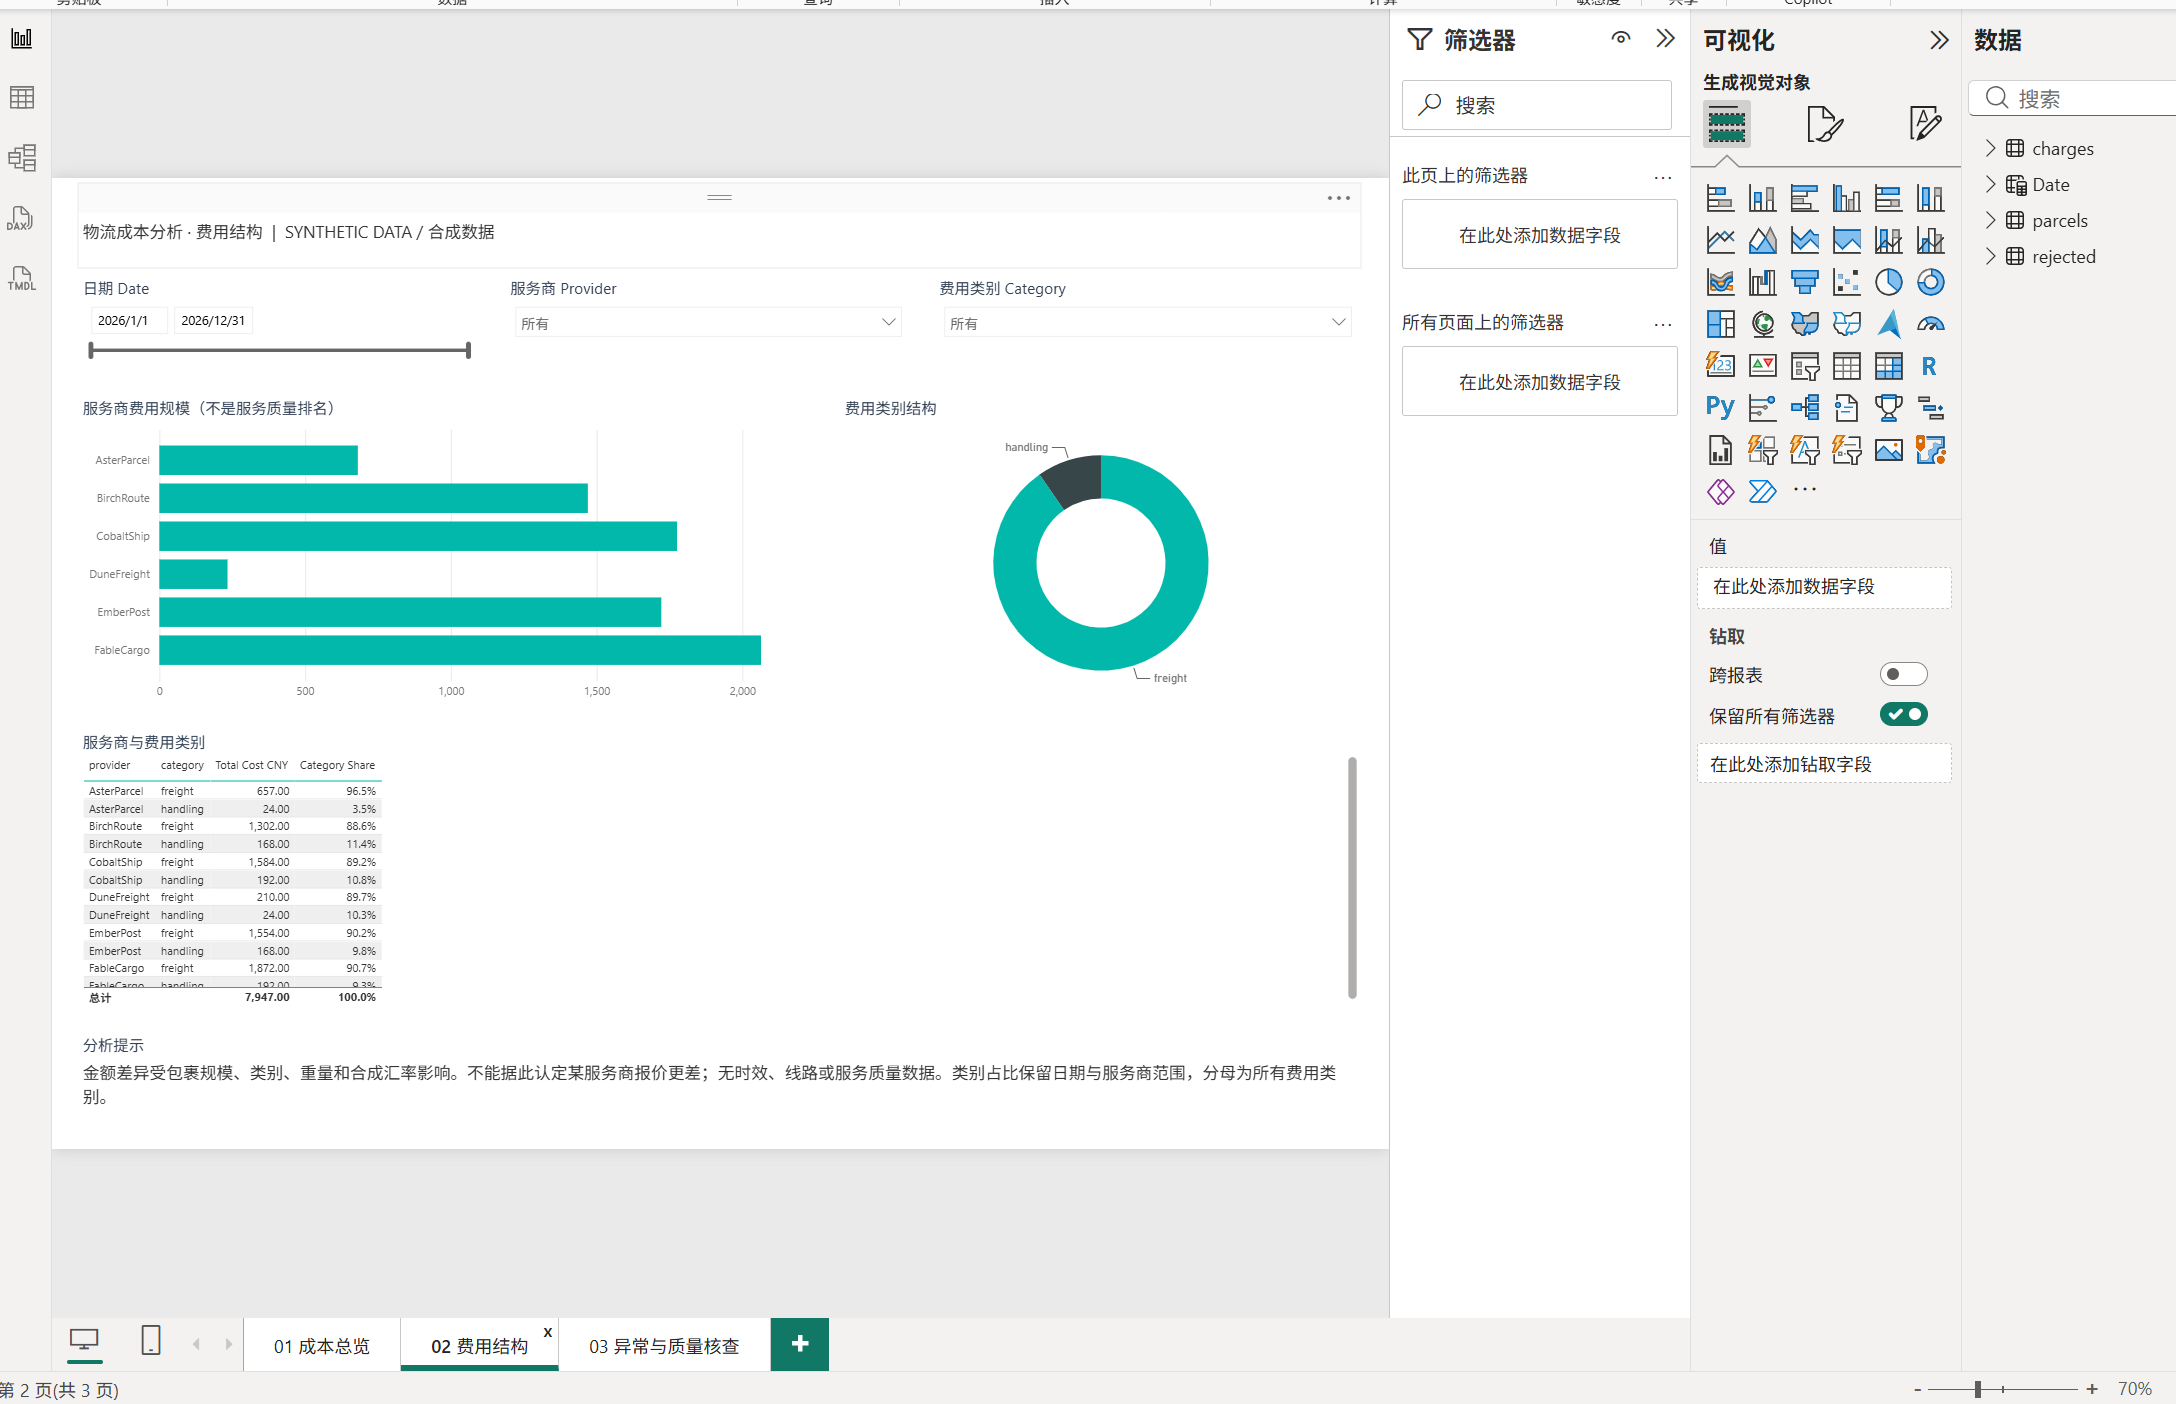

Layout of this report page (visuals, bound fields, positions):
{"tool":"powerbi","page":{"name":"02 费用结构","canvas":[1280,900],"ordinal":1},"visuals":[{"type":"textbox","title":"物流成本分析 · 费用结构","box":[24,5,1230,52],"z":13},{"type":"slicer","title":"日期 Date","fields":{"Values":["Date.Date"]},"box":[24,64,390,100],"z":14},{"type":"slicer","title":"服务商 Provider","fields":{"Values":["parcels.provider"]},"box":[434,64,390,100],"z":15},{"type":"slicer","title":"费用类别 Category","fields":{"Values":["charges.category"]},"box":[844,64,410,100],"z":16},{"type":"clusteredBarChart","title":"服务商费用规模（不是服务质量排名）","fields":{"Category":["parcels.provider"],"Y":["charges.Total Cost CNY"]},"box":[24,180,710,300],"z":17},{"type":"donutChart","title":"费用类别结构","fields":{"Category":["charges.category"],"Y":["charges.Total Cost CNY"]},"box":[754,180,500,300],"z":18},{"type":"tableEx","title":"服务商与费用类别","fields":{"Values":["parcels.provider","charges.category","charges.Total Cost CNY","charges.Category Share"]},"box":[24,500,1230,270],"z":19},{"type":"textbox","title":"分析提示","box":[24,790,1230,95],"z":20}]}

Visuals, with their boxes on the page's 1280x900 design canvas (x1, y1, x2, y2). These are canvas units, not pixel positions in the 2176x1404 screenshot, which may show the page scaled, cropped or inside an application window:
"物流成本分析 · 费用结构" textbox: crop(24, 5, 1254, 57)
"日期 Date" slicer: crop(24, 64, 414, 164)
"服务商 Provider" slicer: crop(434, 64, 824, 164)
"费用类别 Category" slicer: crop(844, 64, 1254, 164)
"服务商费用规模（不是服务质量排名）" clusteredBarChart: crop(24, 180, 734, 480)
"费用类别结构" donutChart: crop(754, 180, 1254, 480)
"服务商与费用类别" tableEx: crop(24, 500, 1254, 770)
"分析提示" textbox: crop(24, 790, 1254, 885)
